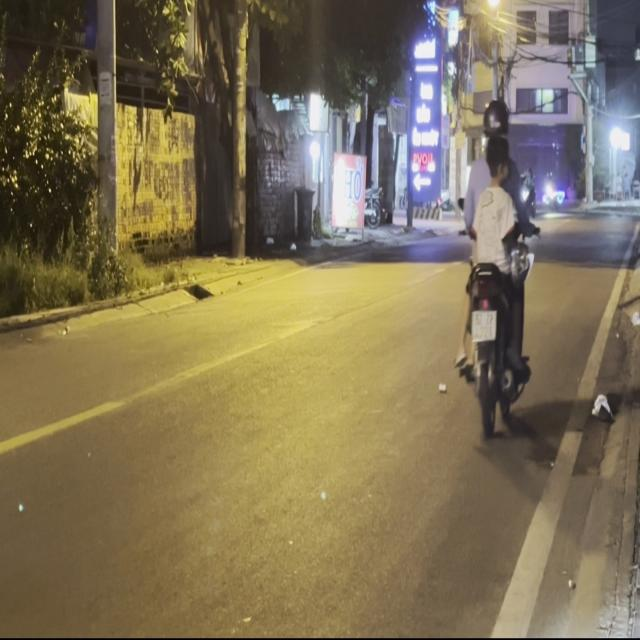helmet: (480, 97, 510, 145)
licenseplate: (452, 97, 534, 433)
motorcyclist: (483, 131, 510, 185)
nohelmet: (471, 311, 497, 342)
